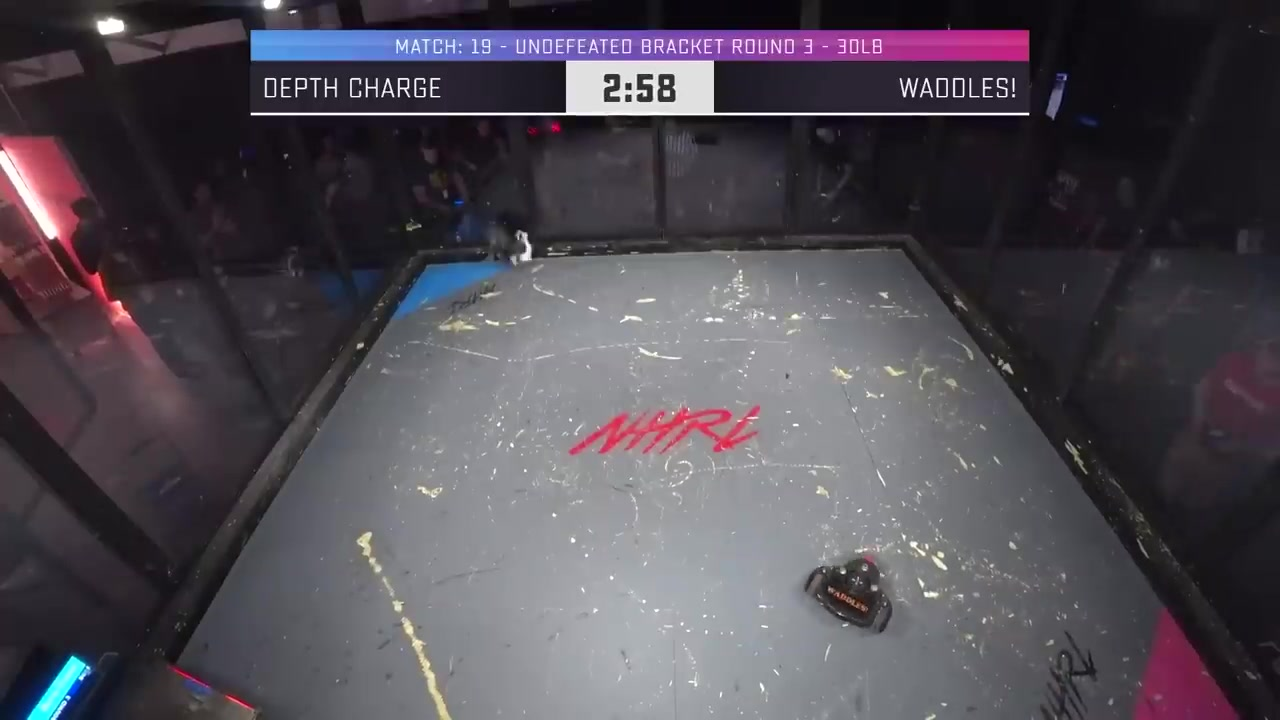combatbot: (804, 557, 892, 635), (486, 230, 540, 267)
housebot: (94, 655, 263, 718)
